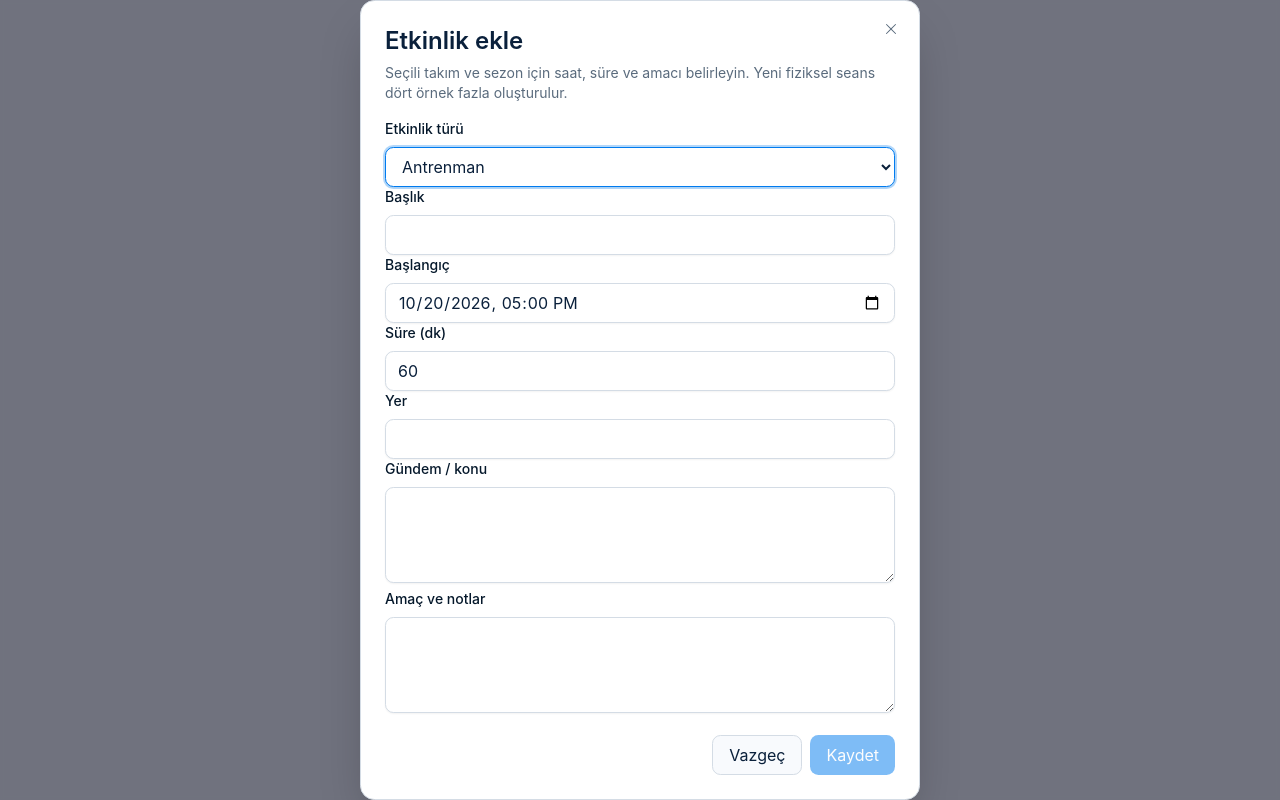
weekly planning dialogs › creates a meeting with agenda and actual fields, without account or invitation fields
This screenshot has width=1280, height=800.
Step 1. Select "Toplantı" in the dropdown labelled "Etkinlik türü" → (640, 167), box 385,147 -> 895,187
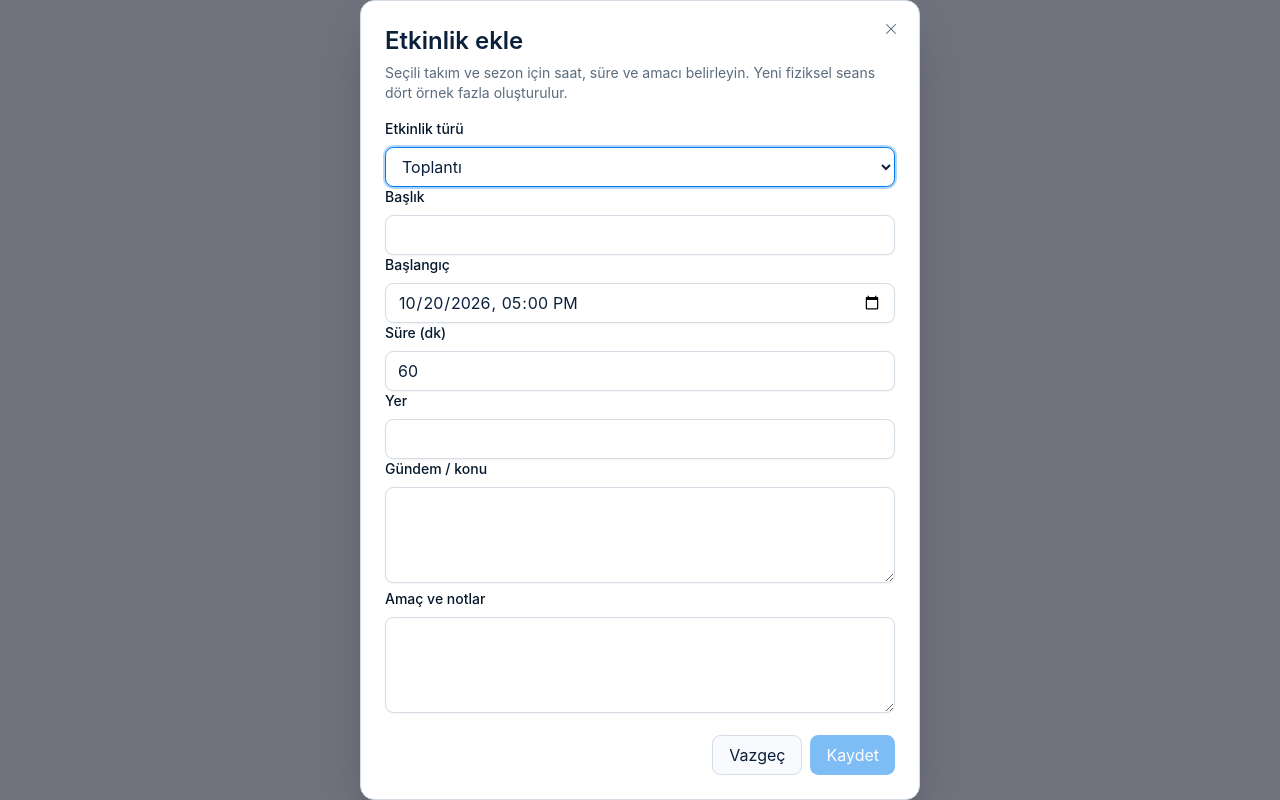
Step 2. Type "Rakip toplantısı" into the field labelled "Başlık" → (640, 235), box 385,215 -> 895,255
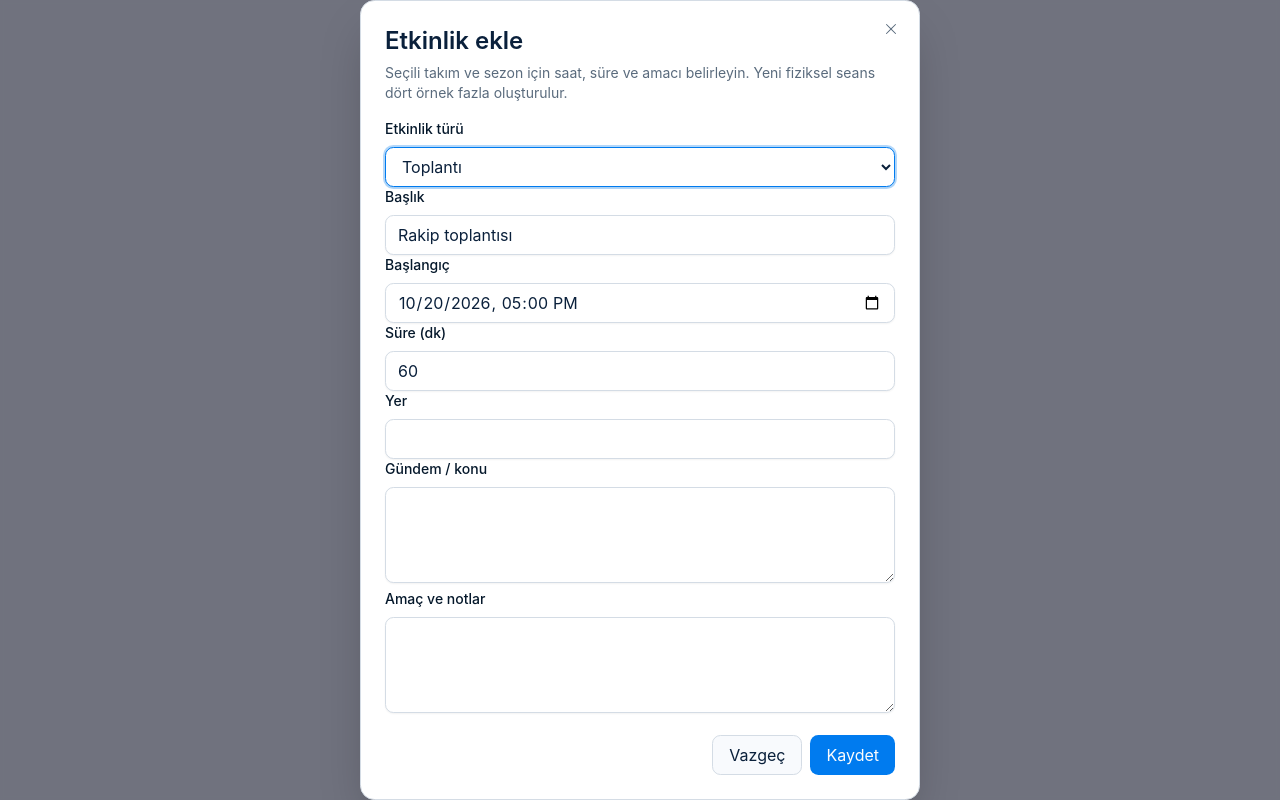
Step 3. Replace the text in the number field labelled "Süre (dk)" with "25" → (640, 371), box 385,351 -> 895,391
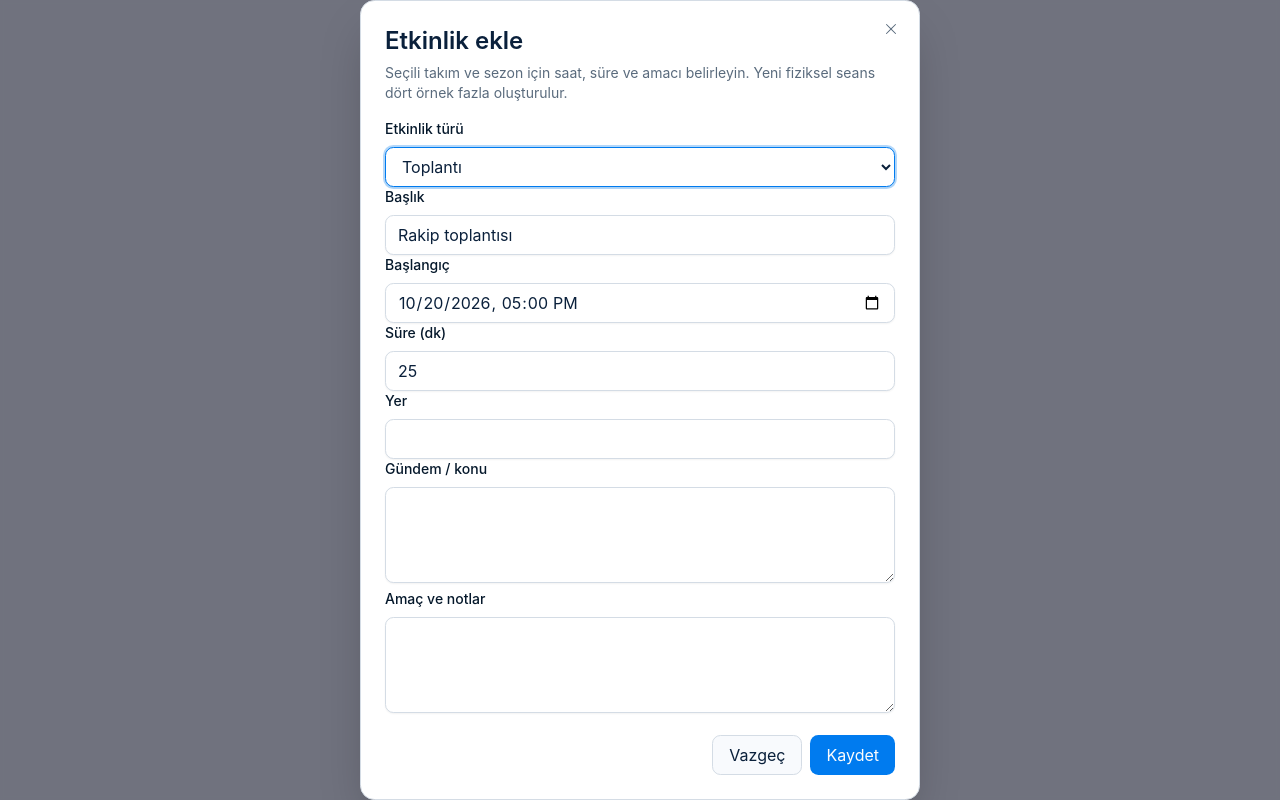
Step 4. Type "Oyun planı" into the text box labelled "Gündem / konu" → (640, 535), box 385,487 -> 895,583
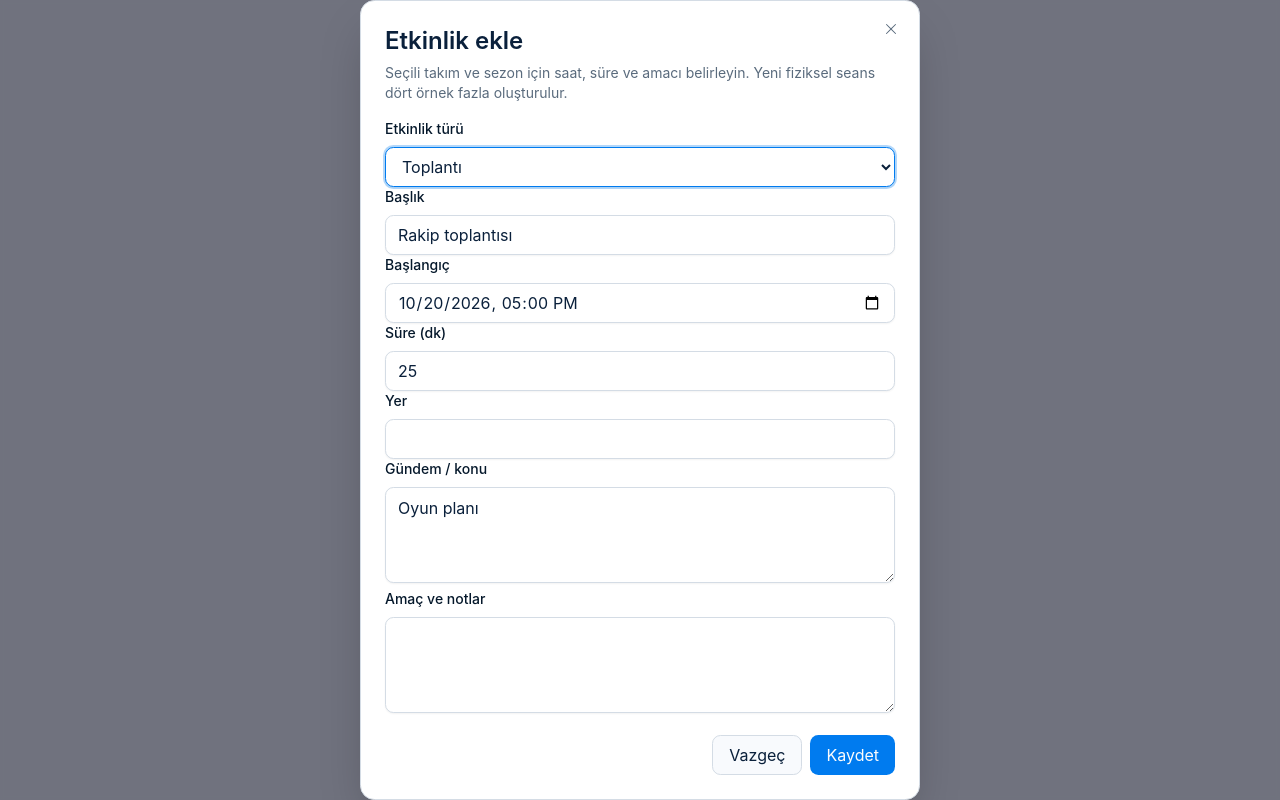
Step 5. Click the button "Kaydet" → (853, 755), box 810,735 -> 895,775
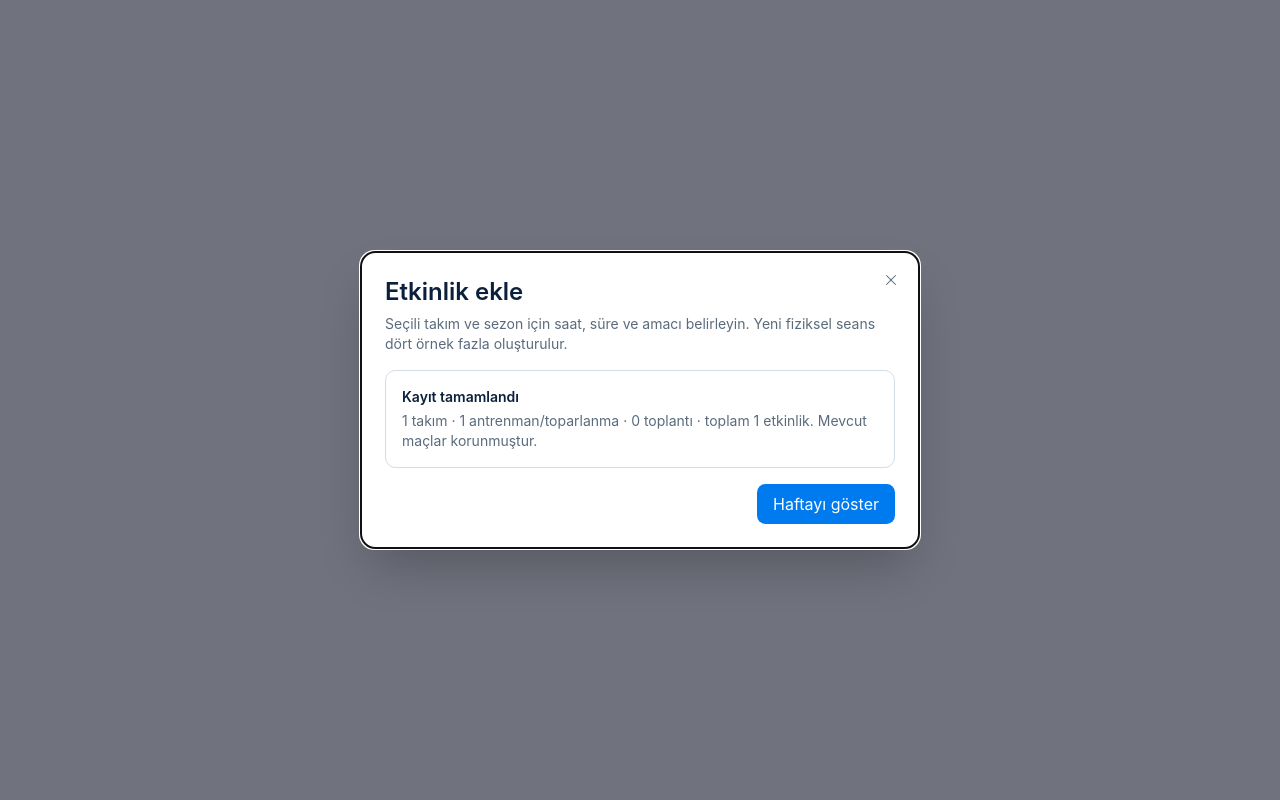
Expected: the heading "Kayıt tamamlandı" is shown, 402,388 -> 519,405
